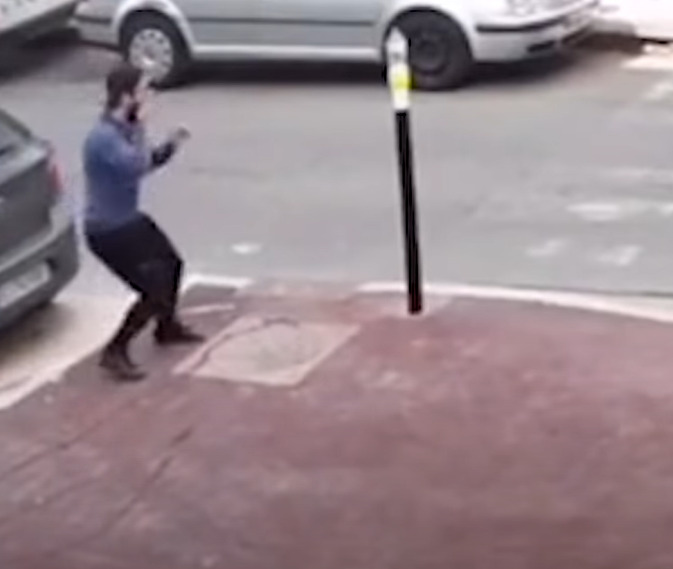person: (82, 64, 209, 381)
